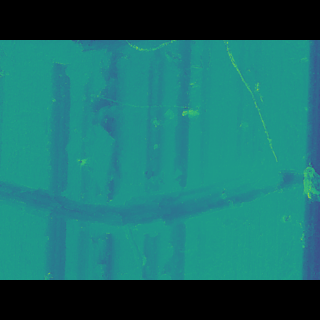Loch: (0, 162, 312, 218)
